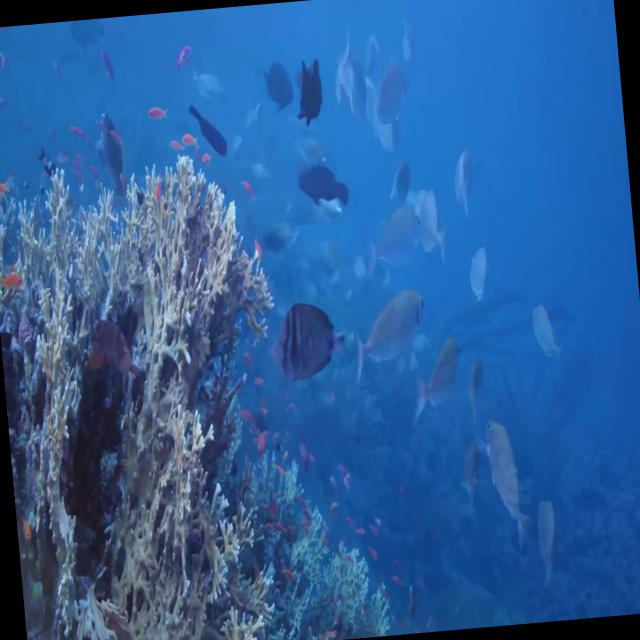fish: (348, 287, 433, 379), (484, 415, 533, 553), (270, 301, 347, 377), (367, 206, 426, 276), (294, 160, 351, 217), (529, 304, 566, 371), (292, 60, 325, 124)
